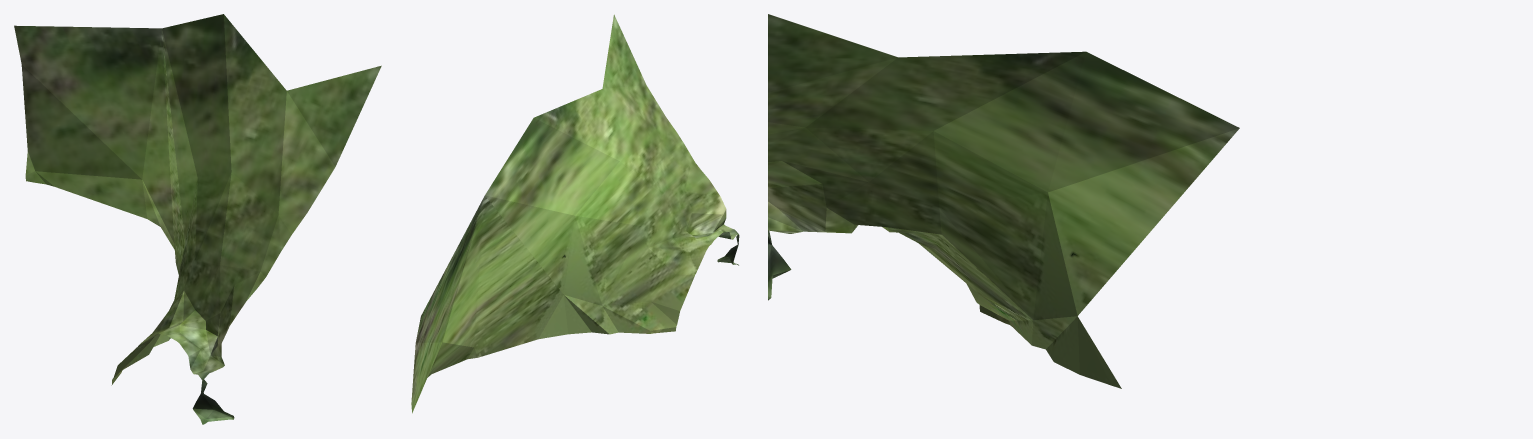
The picture shows the model from 3 angles, left to right: view 1: azimuth 30°, elevation 25°; view 2: azimuth 150°, elevation 25°; view 3: azimuth 270°, elevation 25°; orthographic projection. The views are drawn at different scales.
Bounding box in the file's own units: 9.32 × 15.35 × 26.11.
2 materials, 2 textured.
